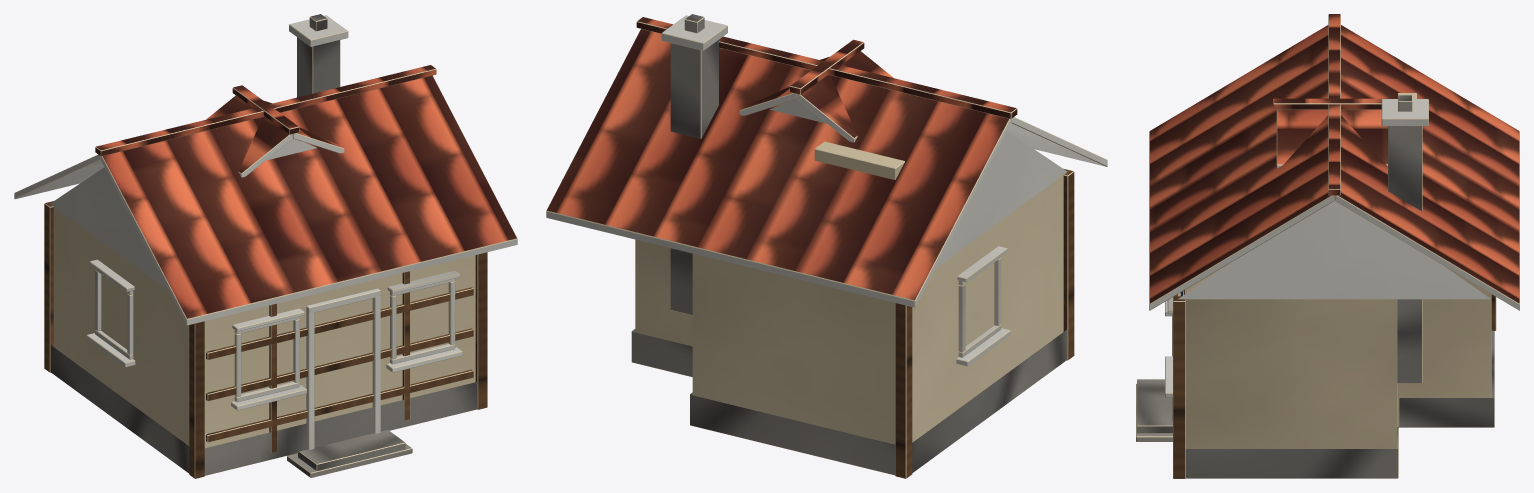
The model's file is Env_House_Cottage_A.fbx.
3 renders of one model, left to right at view 1: azimuth 30°, elevation 25°; view 2: azimuth 150°, elevation 25°; view 3: azimuth 270°, elevation 25°, orthographic. The views are drawn at different scales.
Visible parts, largest first — view 1: Env_House_Cottage_A; view 2: Env_House_Cottage_A; view 3: Env_House_Cottage_A.
Part boxes in pixels (box(x1,y1,x2,y2)): Env_House_Cottage_A: box(14, 14, 517, 478); Env_House_Cottage_A: box(546, 14, 1107, 478); Env_House_Cottage_A: box(1136, 14, 1519, 478).
Size of the model in its own units: 530 by 489 by 507.
